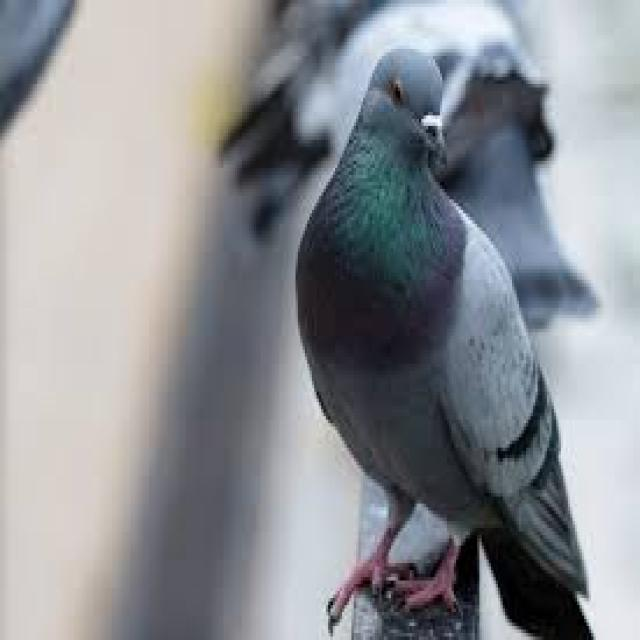pigeon: (285, 35, 630, 640)
